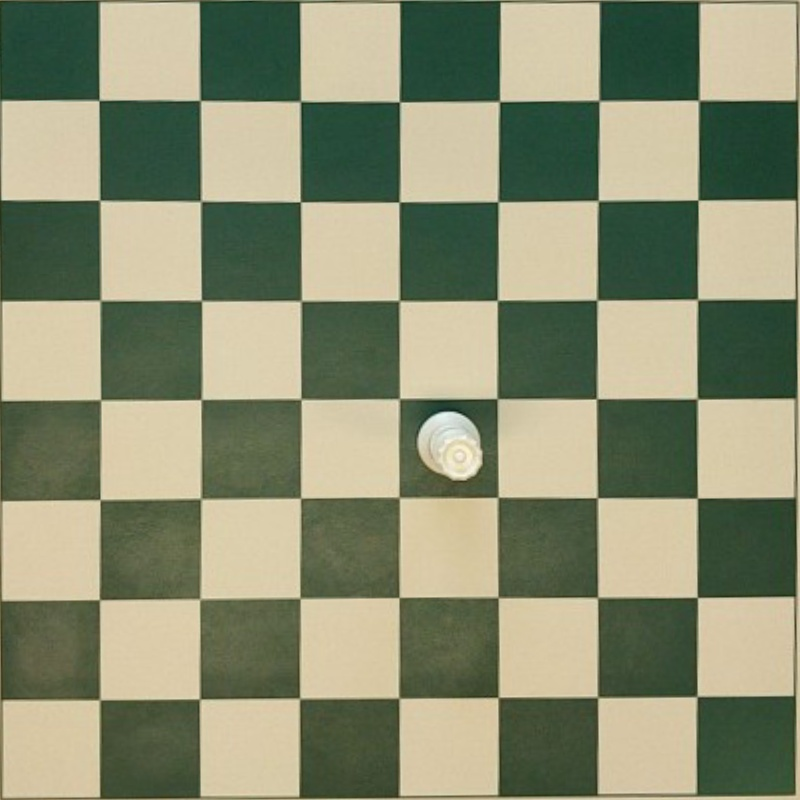white-queen: (417, 411, 483, 481)
